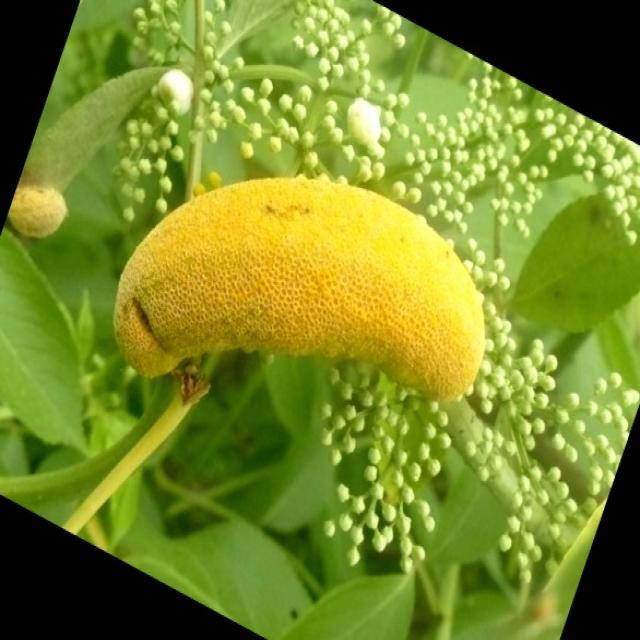Elderberry_rust: (111, 173, 486, 408)
